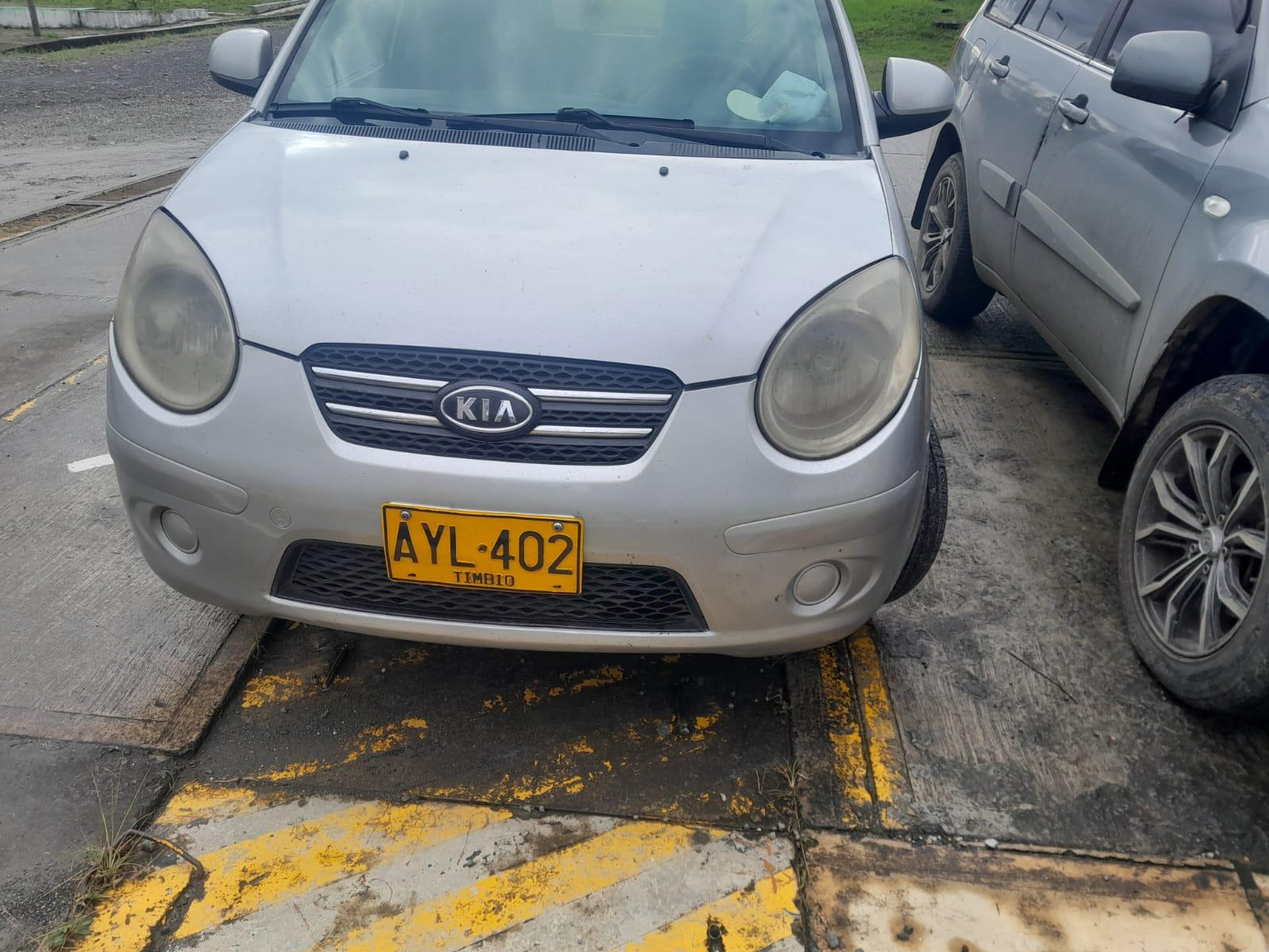placa: (381, 504, 582, 593)
